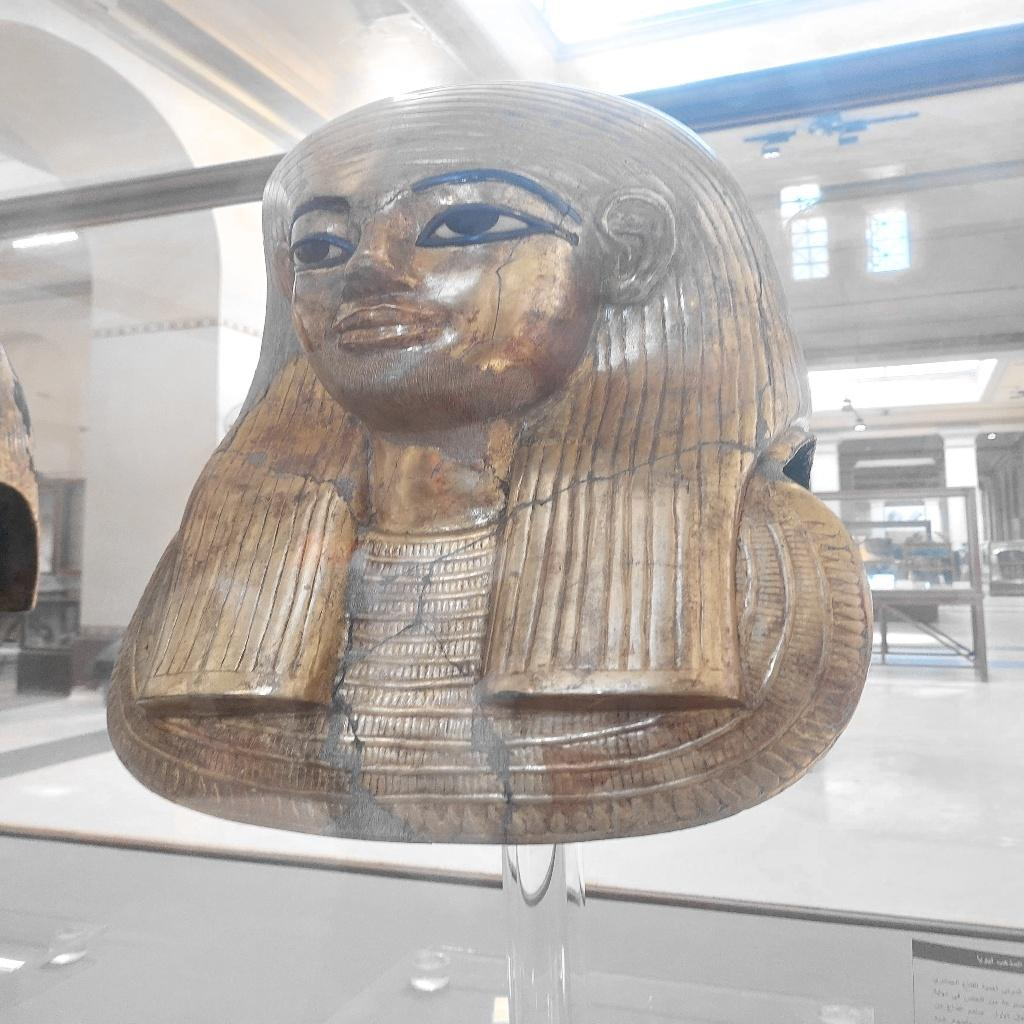Mask of Yuya: (103, 79, 875, 846)
